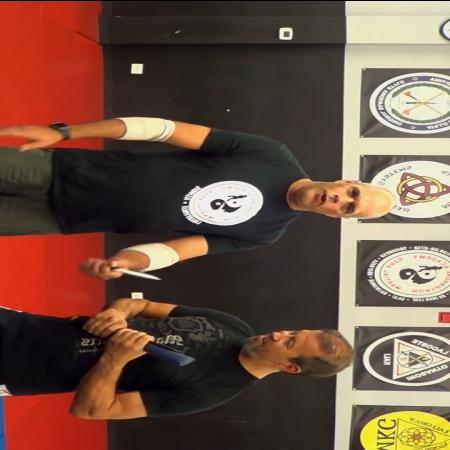long weapon: (78, 255, 168, 283)
